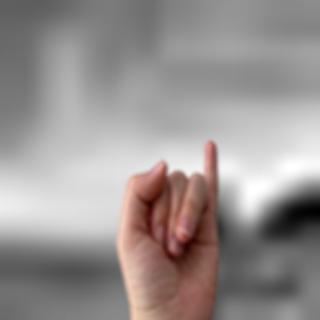Fine: (105, 137, 249, 316)
